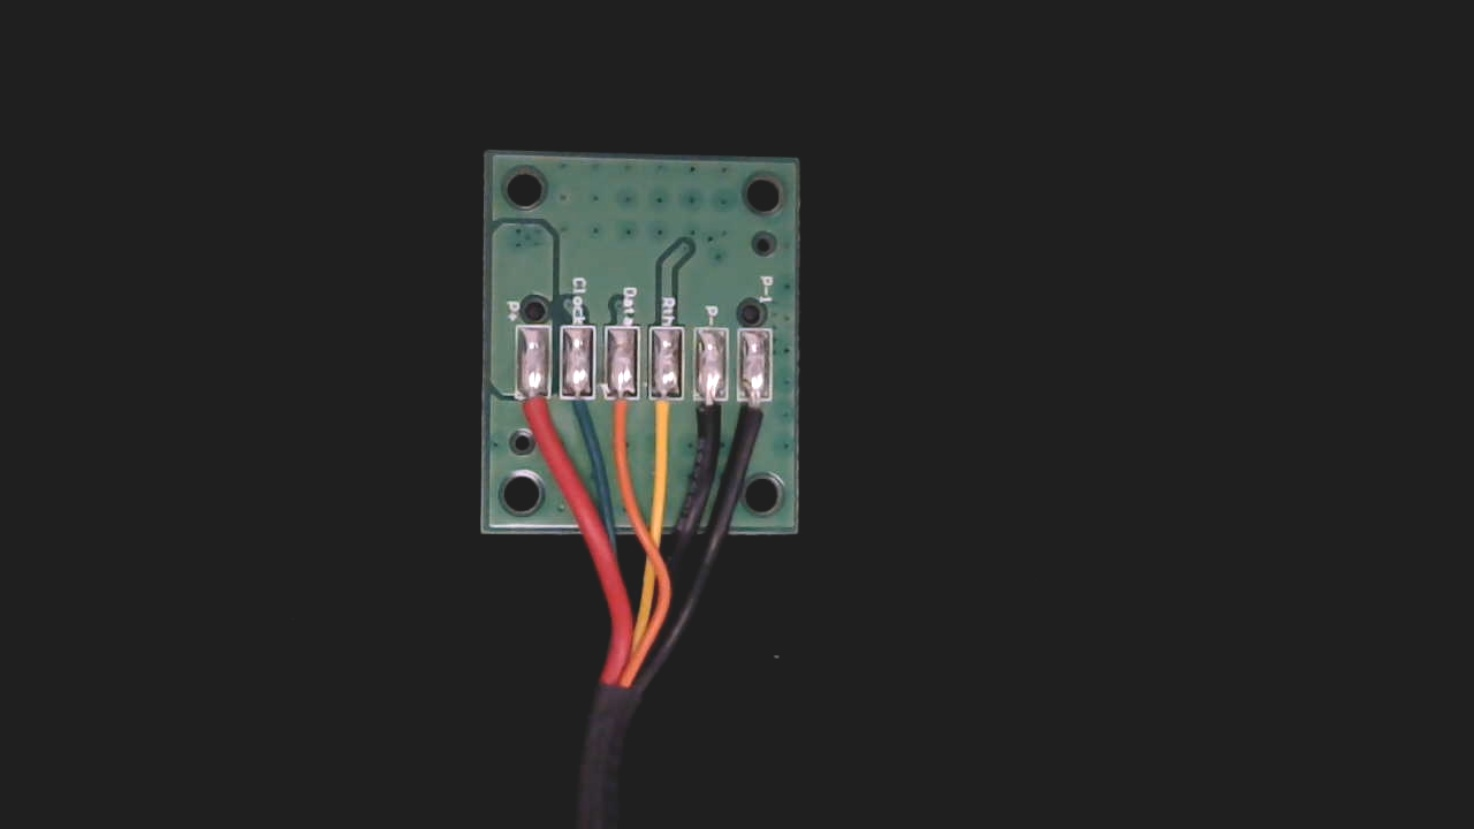Black: (693, 375, 732, 459)
Black1: (739, 378, 777, 454)
Green: (561, 376, 597, 444)
Orange: (605, 377, 643, 460)
Red: (514, 377, 554, 458)
Yellow: (645, 377, 684, 462)
